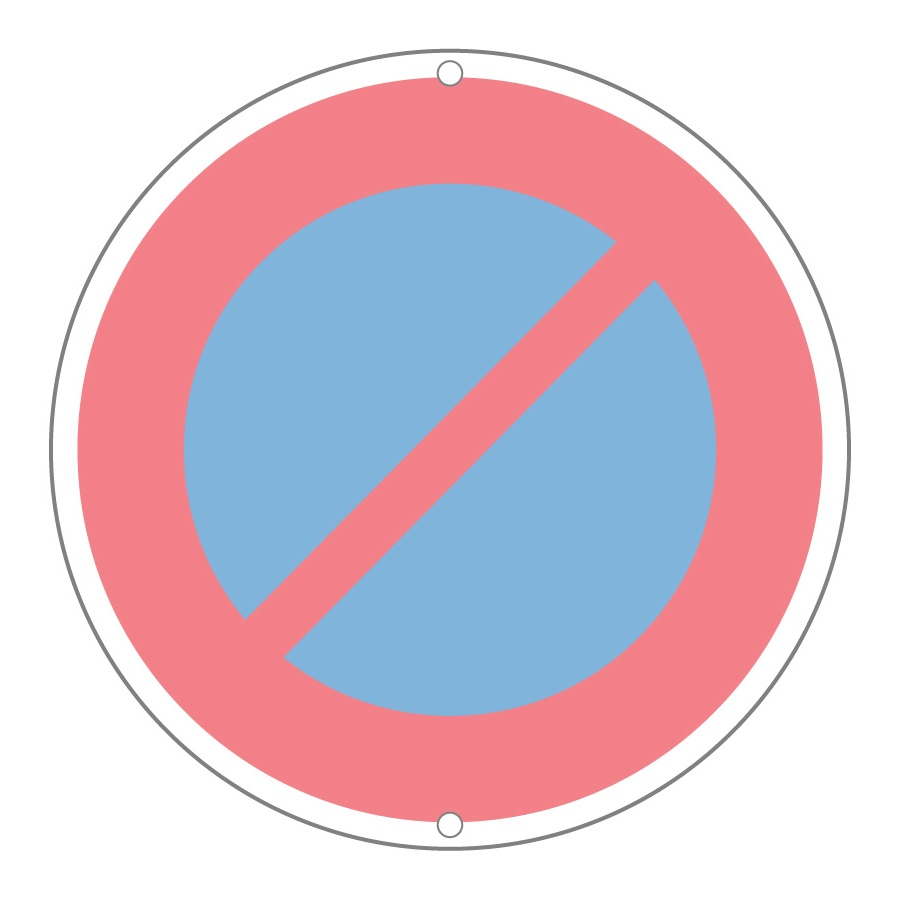Prohibition_sign: (29, 13, 888, 868)
